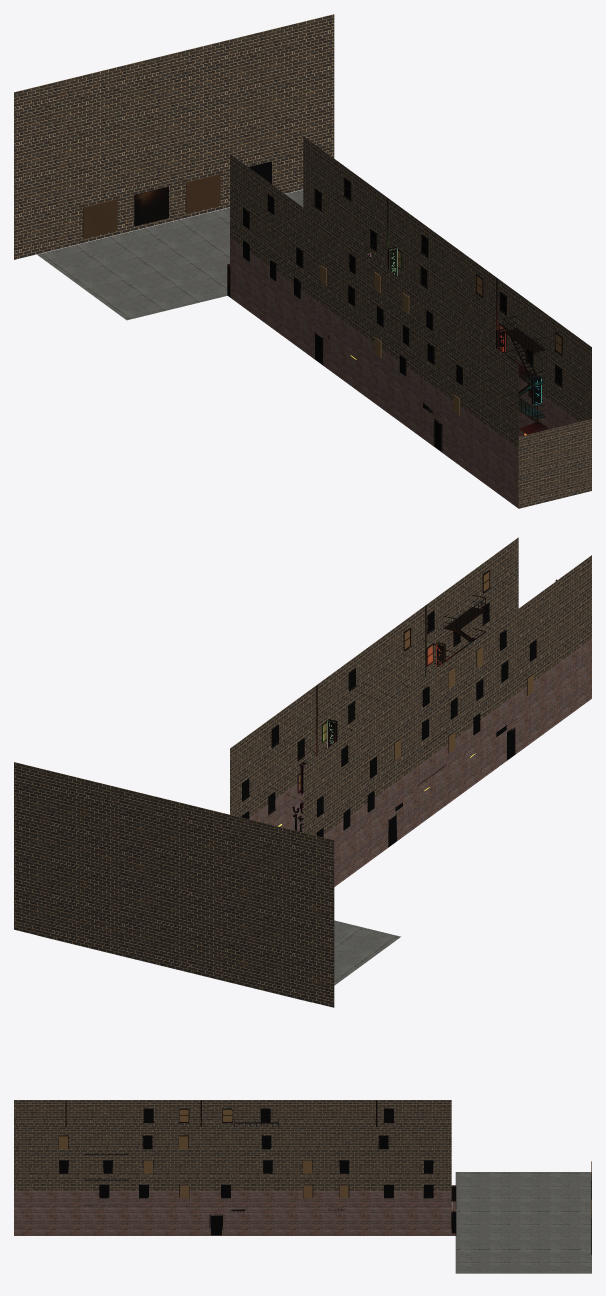
The model's file is env_alley.glb.
The picture shows the model from 3 angles, top to bottom: view 1: azimuth 30°, elevation 25°; view 2: azimuth 150°, elevation 25°; view 3: azimuth 270°, elevation 25°; orthographic projection. The views are drawn at different scales.
Parts seen in each view (by area): view 1: SHELL, SHELL_HI, PROPS; view 2: SHELL, SHELL_HI, PROPS; view 3: SHELL_HI, SHELL, PROPS.
Boxes of the visible parts, x1,y1,x2,y2 form: SHELL: (14, 14, 591, 508); SHELL_HI: (230, 136, 591, 448); PROPS: (82, 161, 562, 452); SHELL: (14, 639, 591, 1007); SHELL_HI: (230, 537, 591, 835); PROPS: (242, 570, 557, 847); SHELL_HI: (14, 1100, 451, 1190); SHELL: (14, 1172, 591, 1273); PROPS: (58, 1100, 591, 1254).
Bounding box in the file's own units: 28 × 14.02 × 57.7.
Materials: 15 (6 with a texture image).
